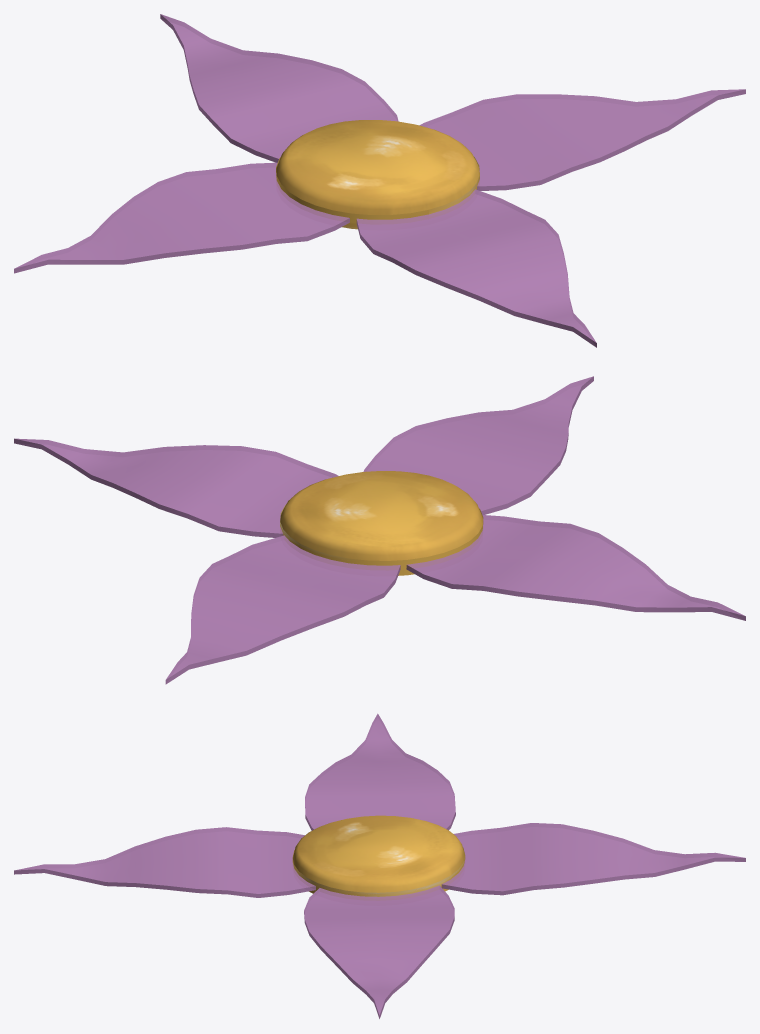
Rendered from fleur 2.fbx.
The picture shows the model from 3 angles, top to bottom: view 1: azimuth 30°, elevation 25°; view 2: azimuth 150°, elevation 25°; view 3: azimuth 270°, elevation 25°; orthographic projection. The views are drawn at different scales.
Parts seen in each view (by area): view 1: fleur 2; view 2: fleur 2; view 3: fleur 2.
Boxes of the visible parts, box(x1,y1,x2,y2) form: fleur 2: box(14, 14, 745, 347); fleur 2: box(14, 376, 745, 684); fleur 2: box(14, 713, 745, 1018).
Bounding box in the file's own units: 195 × 8.19 × 199.
Materials: 2 (1 with a texture image).
